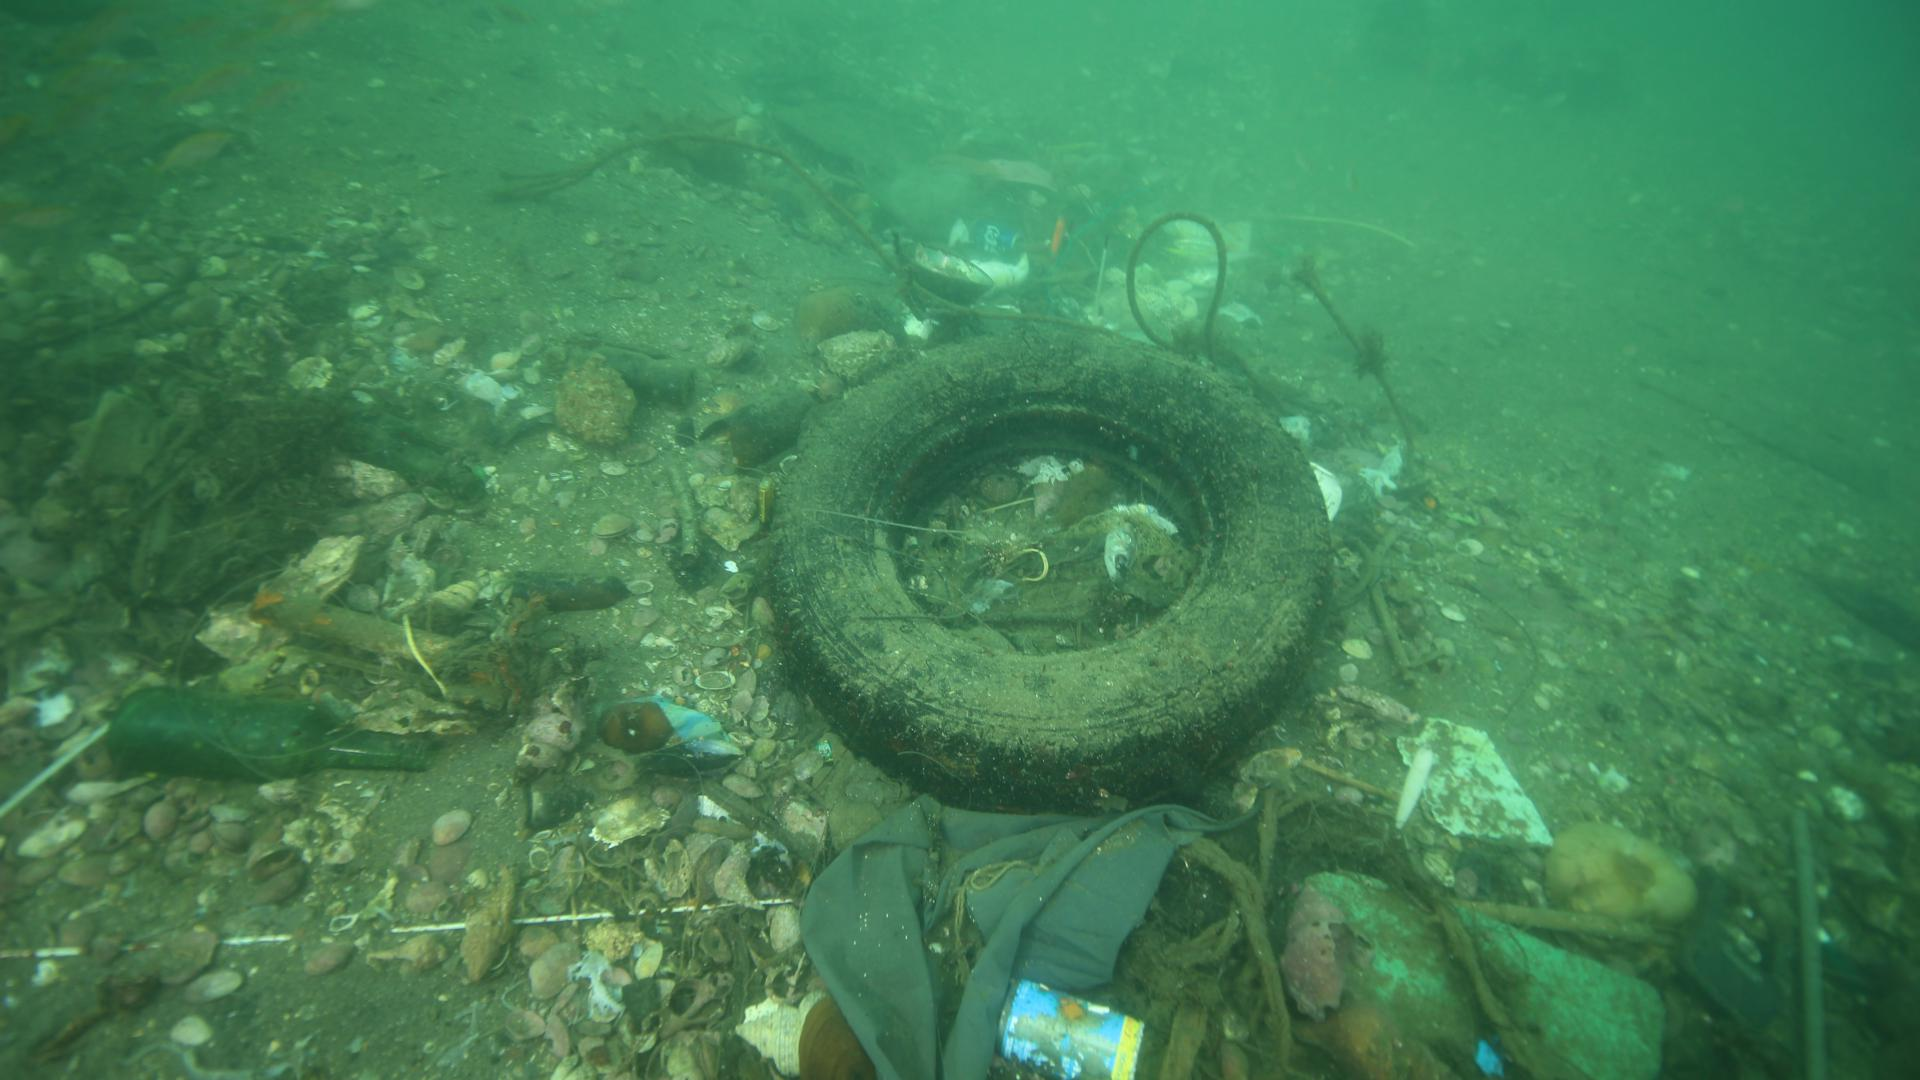rope: (1122, 206, 1230, 364)
tire: (767, 326, 1337, 811)
